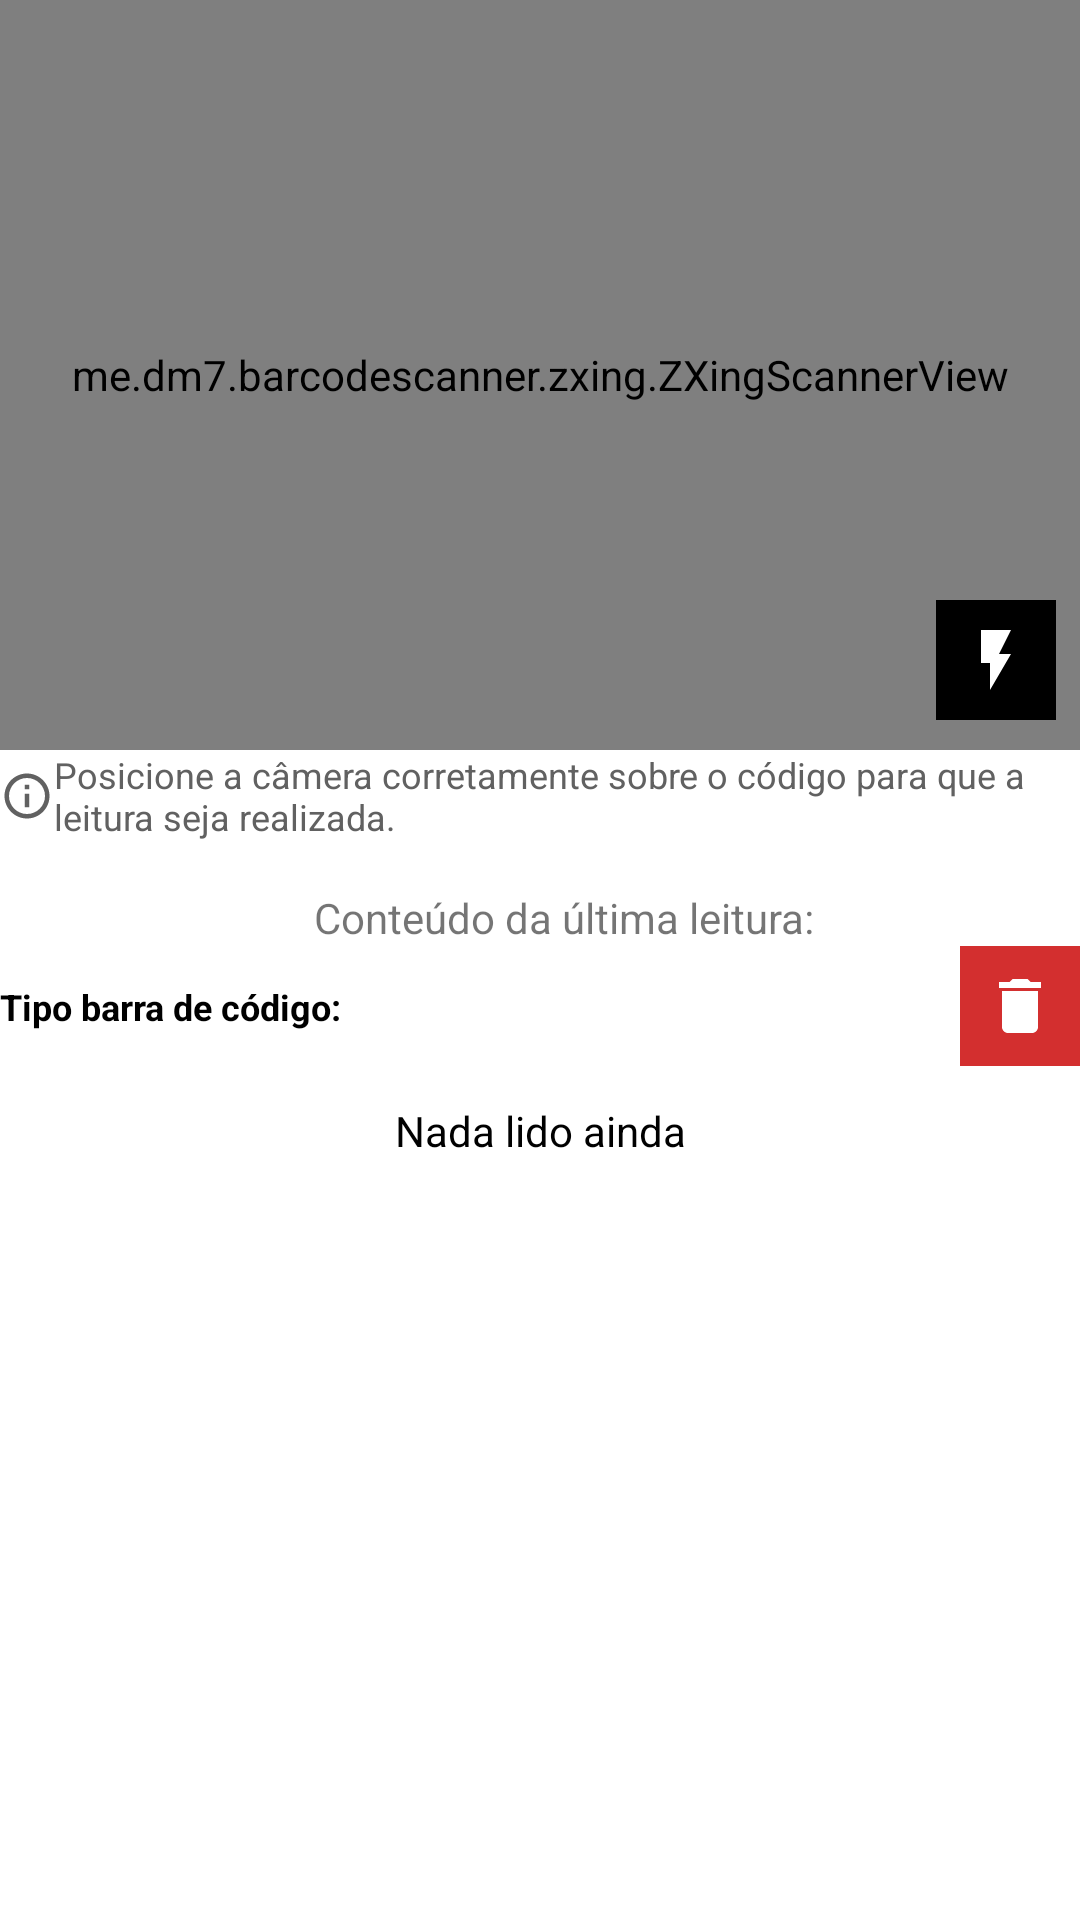

Icons on this 1080px x 1920px Android screen, each with its box as (x1, y1, x2, y2):
Informação: (4, 773, 50, 819)
Ligar flash: (936, 600, 1056, 720)
Limpar área de conteúdo lido: (960, 946, 1080, 1066)
